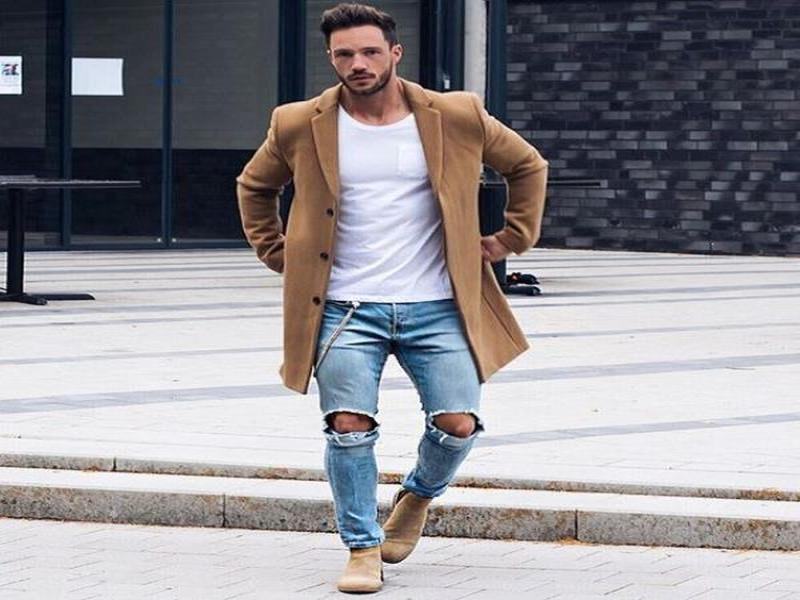shoes_men_chelsea_chelseaboots_suede_none_none_beige_none: (332, 544, 409, 599), (378, 489, 431, 565)
